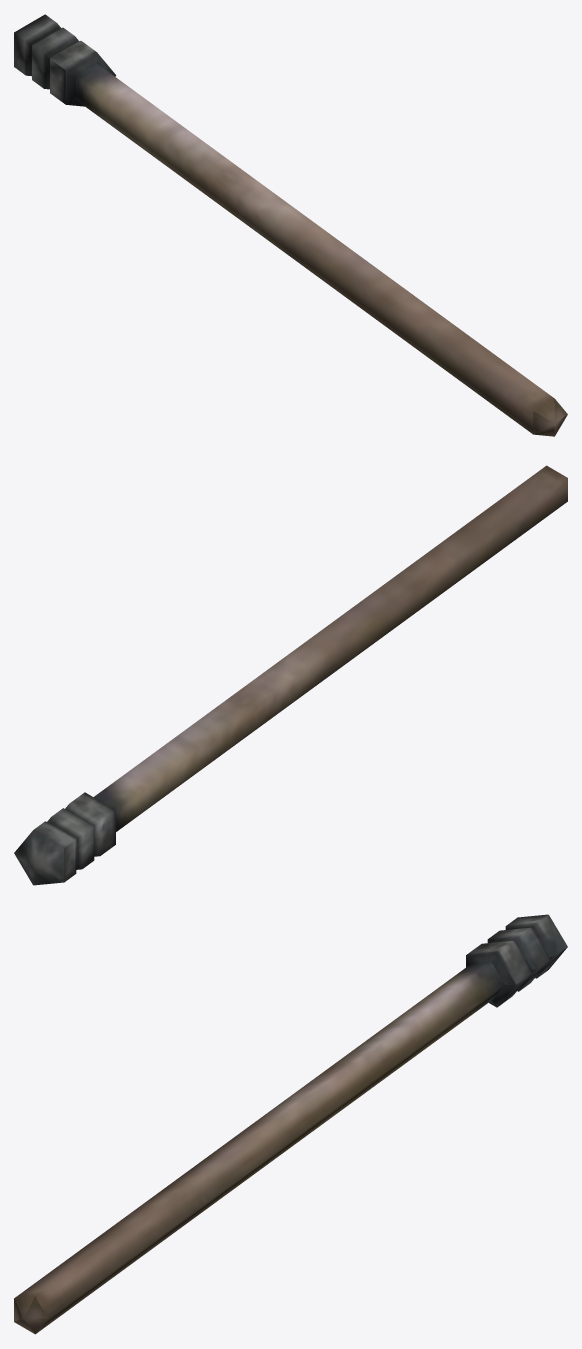
Rendered from pir_m_inv_can_ram_b.fbx.
The picture shows the model from 3 angles, top to bottom: view 1: azimuth 30°, elevation 25°; view 2: azimuth 150°, elevation 25°; view 3: azimuth 330°, elevation 25°; orthographic projection.
Parts seen in each view (by area): view 1: ram_b_root; view 2: ram_b_root; view 3: ram_b_root.
Part boxes in pixels (left/top/right/bottom): ram_b_root: left=14, top=14, right=567, bottom=436; ram_b_root: left=14, top=465, right=567, bottom=885; ram_b_root: left=14, top=914, right=567, bottom=1334.
Bounding box in the file's own units: 20.21 × 21.25 × 363.
Materials: 1 (1 with a texture image).
